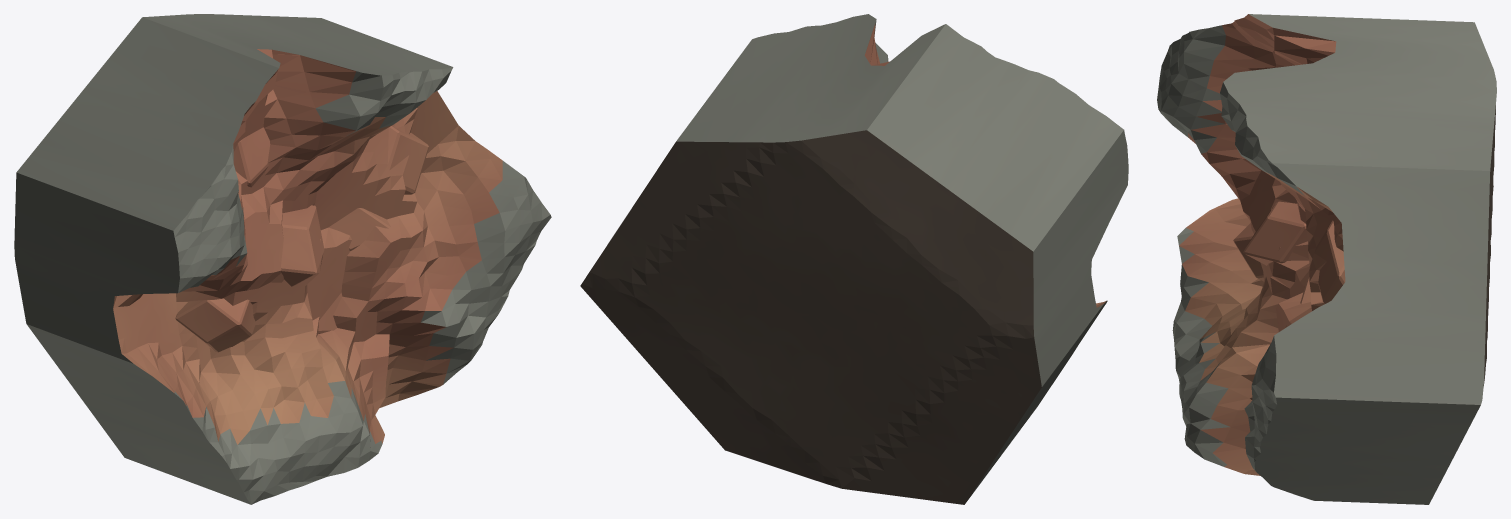
The model's file is corealm_item_emberite_ore.glb.
3 views of the same model, side by side, from view 1: azimuth 30°, elevation 25°; view 2: azimuth 150°, elevation 25°; view 3: azimuth 270°, elevation 25° (orthographic). The views are drawn at different scales.
Visible parts, largest first — view 1: corealm_item_emberite_ore; view 2: corealm_item_emberite_ore; view 3: corealm_item_emberite_ore.
Part boxes in pixels (box(x1,y1,x2,y2)): corealm_item_emberite_ore: box(14, 14, 551, 504); corealm_item_emberite_ore: box(580, 14, 1128, 504); corealm_item_emberite_ore: box(1157, 14, 1496, 504).
Size of the model in its own units: 0.3097 by 0.2675 by 0.1891.
